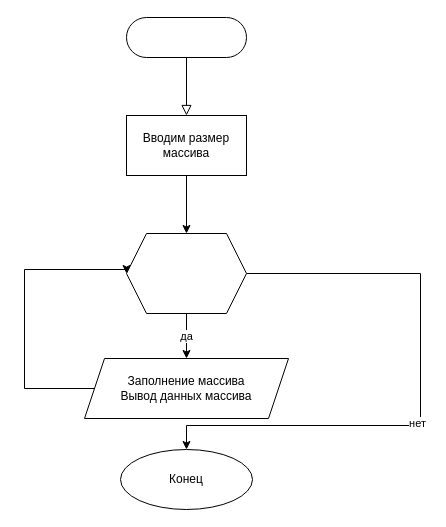
Image size: 446x527. Some labels were removed from this diagram. Each missing label, with the centre of its shape:
int i = 0; i < num; i++: (186,273)
Начало: (186,37)
